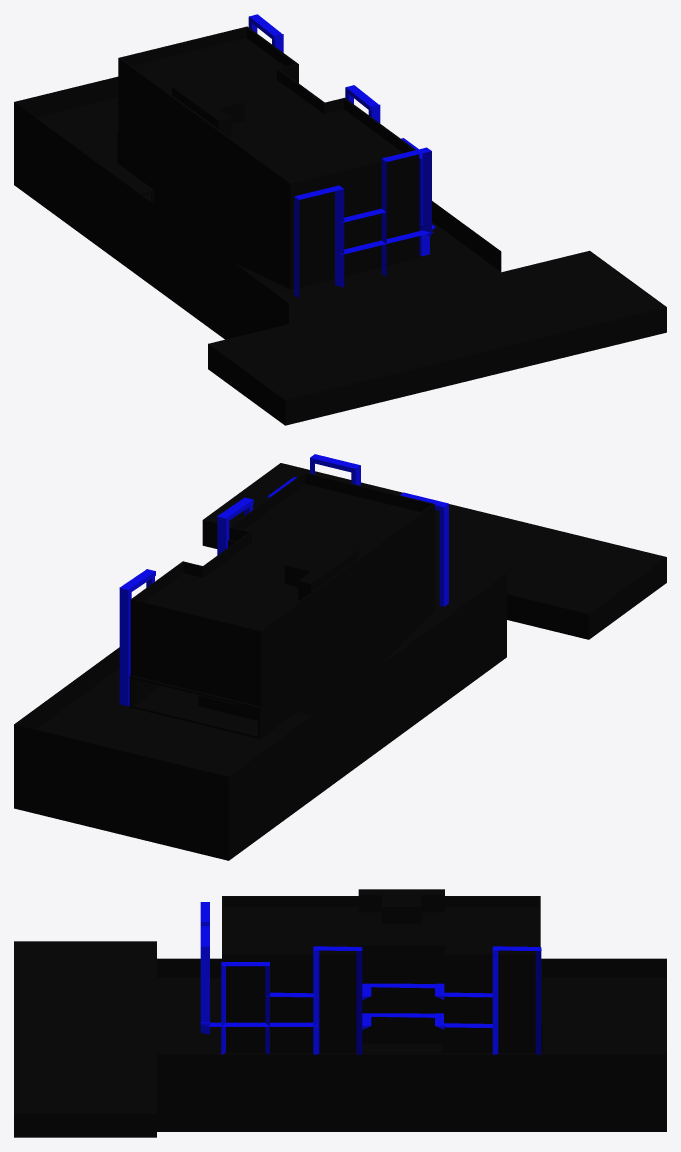
File: building.obj
The picture shows the model from 3 angles, top to bottom: view 1: azimuth 30°, elevation 25°; view 2: azimuth 150°, elevation 25°; view 3: azimuth 270°, elevation 25°; orthographic projection. The views are drawn at different scales.
Bounding box in the file's own units: 38.47 × 17.1 × 61.46.
